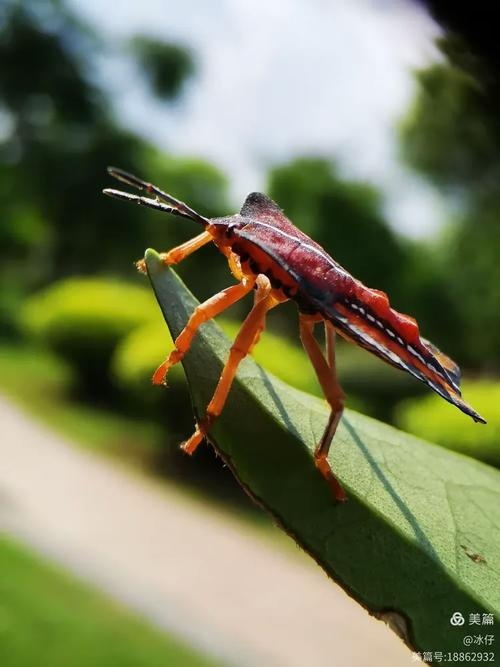Stink_Bug: (113, 181, 465, 434)
